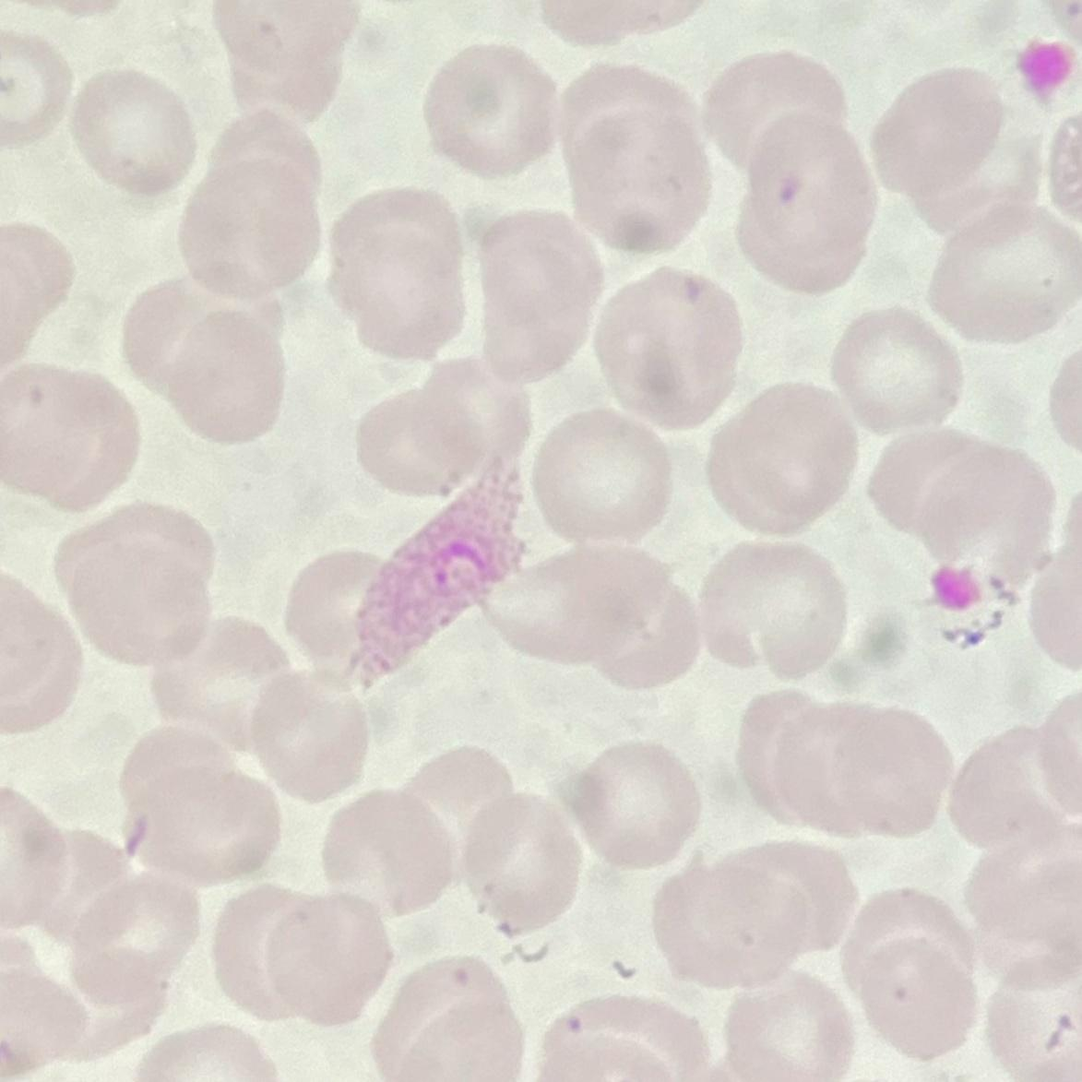Infected: (344, 462, 533, 683)
Uninfected: (867, 426, 1052, 593), (739, 691, 948, 838), (490, 544, 696, 684), (656, 842, 850, 988), (559, 71, 714, 252), (58, 505, 216, 669), (731, 113, 875, 291), (115, 731, 278, 886), (355, 357, 526, 502), (214, 885, 387, 1028), (327, 188, 471, 357), (181, 129, 324, 299), (701, 376, 857, 522), (696, 541, 851, 682), (842, 894, 974, 1059), (473, 212, 602, 379), (929, 207, 1082, 345), (593, 275, 736, 422), (873, 69, 1007, 223), (0, 363, 135, 513), (149, 619, 298, 751), (527, 412, 672, 545), (422, 43, 557, 177), (702, 48, 853, 166), (373, 956, 519, 1077), (323, 791, 459, 920), (566, 741, 701, 870), (964, 832, 1081, 977), (70, 876, 197, 1009), (459, 791, 580, 930), (121, 279, 259, 400), (247, 672, 371, 806), (178, 293, 283, 451), (217, 1, 355, 117), (829, 308, 957, 431), (400, 745, 511, 886), (70, 69, 196, 193), (24, 808, 127, 957), (952, 731, 1074, 856), (537, 993, 708, 1080), (723, 977, 850, 1076), (284, 553, 386, 672), (987, 983, 1077, 1077)
